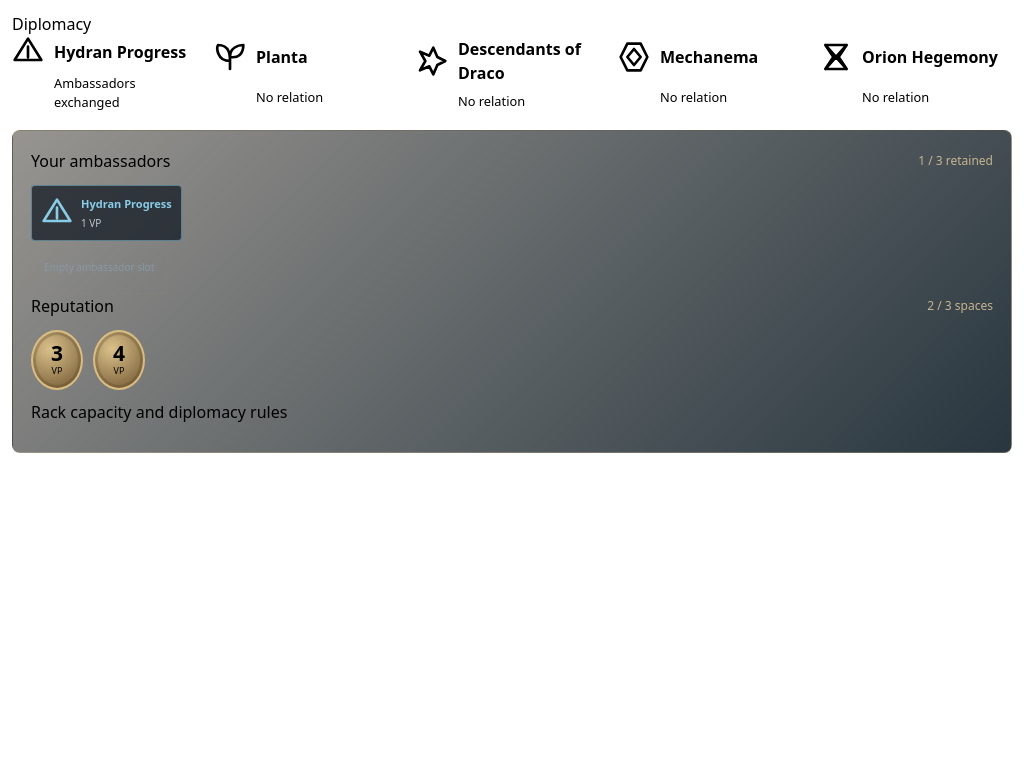
Scenario: shows retained ambassadors by faction and keeps opponent reputation face down
Expected: the element named "Your ambassador from Hydran Progress" is shown, [31,185,182,241]
Expected: the button with aria-label "Your reputation: 3 VP" is shown, [31,330,83,390]
Click the button with aria-label "Select relationship with Hydran Progress" at x=108, y=74, box [12,36,204,112]
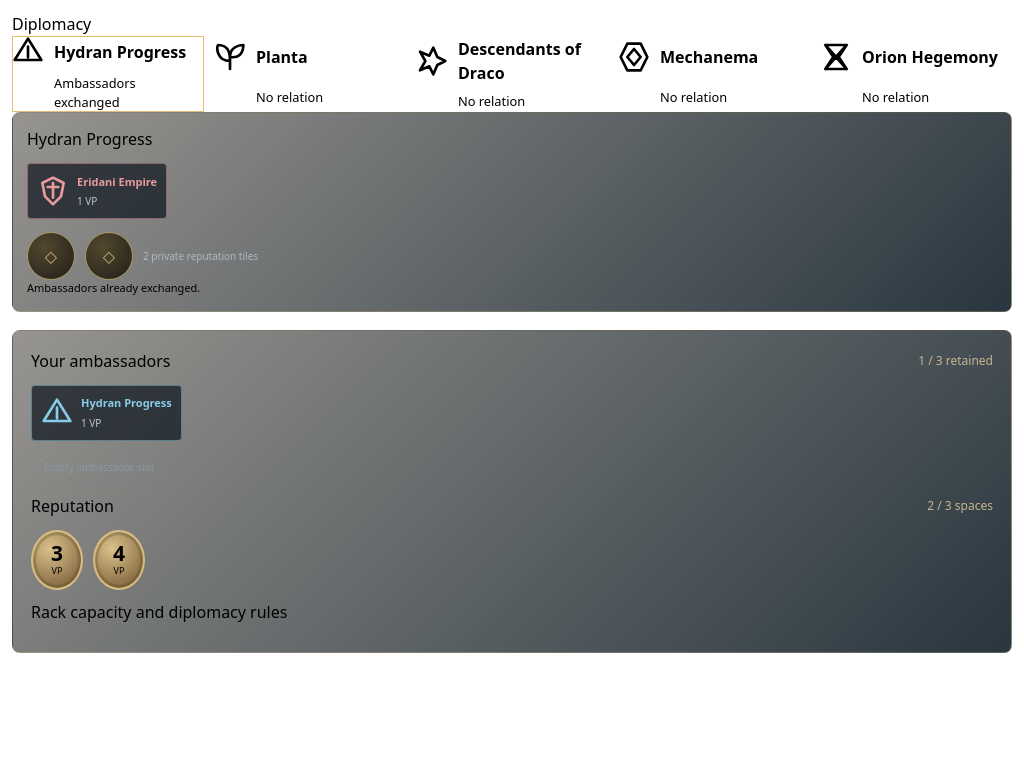
Expected: the number of elements named "Face-down reputation tile" is 2, [27,232,75,280]; [85,232,133,280]
